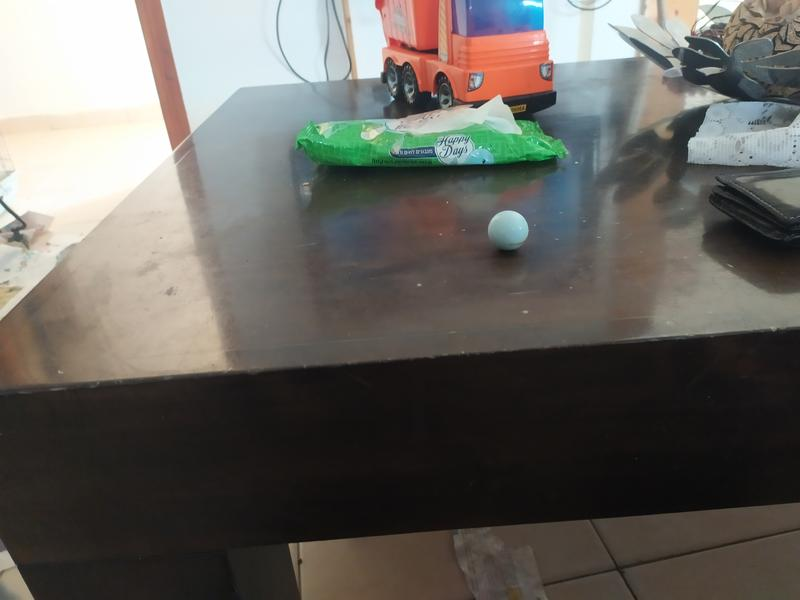Warning: (485, 208, 531, 254)
